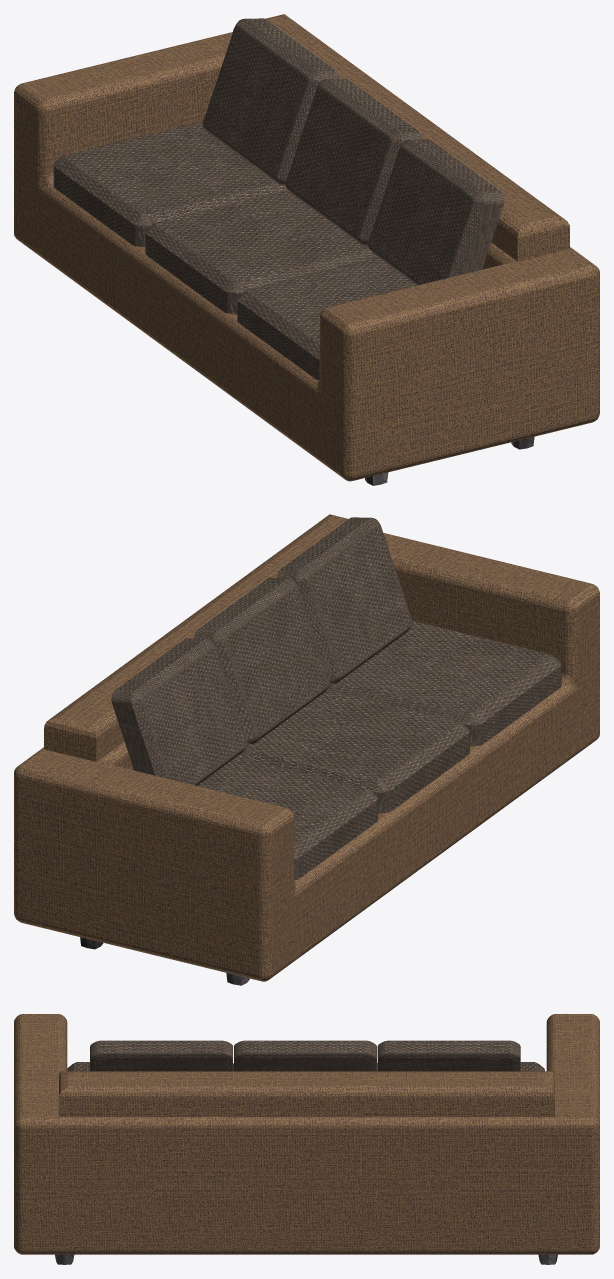
Rendered from sofa(v1.0).fbx.
3 renders of one model, top to bottom at view 1: azimuth 30°, elevation 25°; view 2: azimuth 150°, elevation 25°; view 3: azimuth 270°, elevation 25°, orthographic. The views are drawn at different scales.
Parts seen in each view (by area): view 1: sofa, pillows; view 2: sofa, pillows; view 3: sofa, pillows, legs.
Part boxes in pixels (left/top/right/bottom): sofa: left=14, top=14, right=599, bottom=481; pillows: left=53, top=18, right=504, bottom=380; sofa: left=14, top=514, right=599, bottom=981; pillows: left=111, top=517, right=561, bottom=879; sofa: left=14, top=1014, right=599, bottom=1254; pillows: left=67, top=1040, right=544, bottom=1071; legs: left=55, top=1254, right=557, bottom=1264.
Bounding box in the file's own units: 0.8584 × 1.94 × 0.7768.
